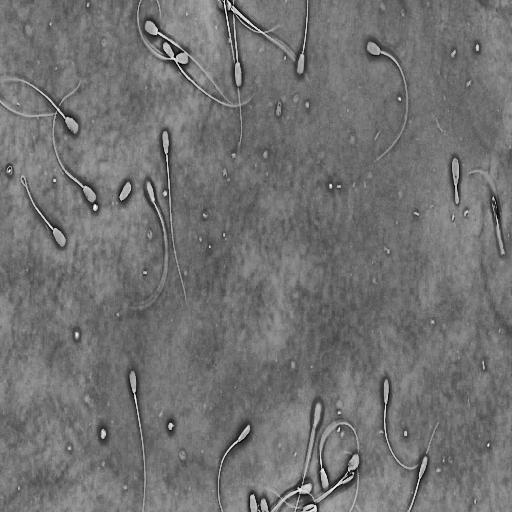coiled-tail: (497, 221, 504, 255), (455, 184, 459, 203)
dirt-particles: (97, 423, 108, 443), (165, 419, 176, 435)
loose-head: (116, 176, 134, 206)
loose-tail: (220, 0, 244, 148), (0, 96, 66, 122)
normal: (143, 15, 235, 109), (216, 0, 311, 84), (50, 74, 100, 210), (161, 39, 256, 110), (365, 36, 413, 167), (382, 374, 443, 472), (159, 124, 191, 309), (0, 73, 81, 138), (135, 177, 169, 314), (18, 168, 69, 251), (467, 170, 508, 262), (293, 397, 325, 512), (215, 417, 253, 512), (136, 0, 190, 65), (126, 363, 149, 512), (318, 420, 361, 493), (294, 0, 311, 78), (231, 0, 245, 91), (450, 154, 460, 207)
